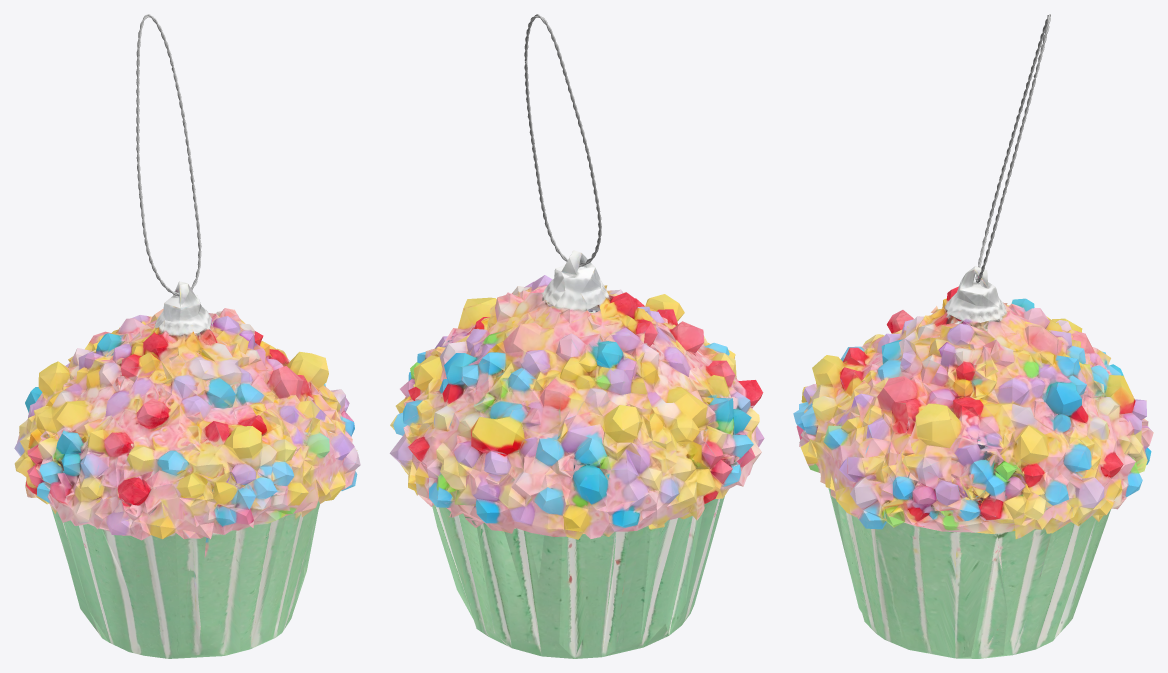
The model's file is cupcake1.glb.
3 renders of one model, left to right at view 1: azimuth 30°, elevation 25°; view 2: azimuth 150°, elevation 25°; view 3: azimuth 270°, elevation 25°, orthographic. The views are drawn at different scales.
Parts seen in each view (by area): view 1: Mesh1.0, GN Instance; view 2: Mesh1.0, GN Instance; view 3: Mesh1.0, GN Instance.
Part boxes in pixels (left/top/right/bottom): Mesh1.0: left=14, top=281, right=360, bottom=658; GN Instance: left=136, top=14, right=201, bottom=295; Mesh1.0: left=389, top=250, right=764, bottom=658; GN Instance: left=524, top=14, right=601, bottom=266; Mesh1.0: left=793, top=266, right=1153, bottom=658; GN Instance: left=975, top=14, right=1050, bottom=282.
Bounding box in the file's own units: 0.0715 × 0.13 × 0.0704.
Materials: 2 (1 with a texture image).
